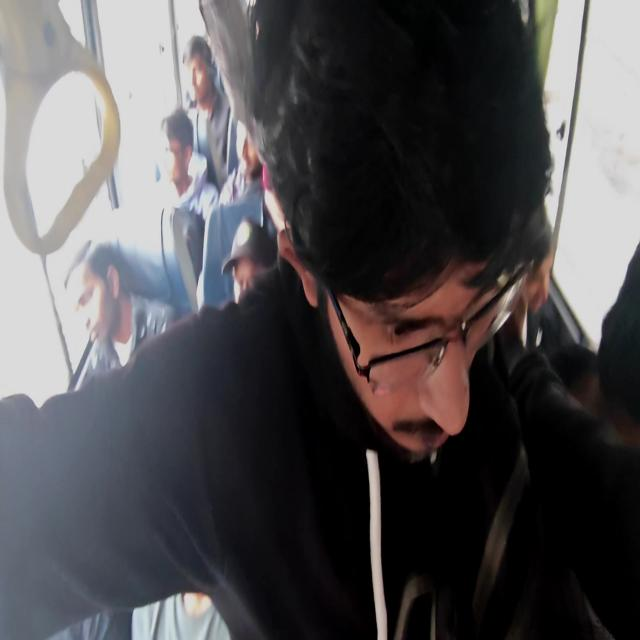person: (264, 13, 527, 426), (595, 237, 640, 512), (36, 250, 131, 334), (228, 224, 288, 328), (162, 122, 215, 223), (528, 210, 560, 345), (172, 44, 221, 113)
